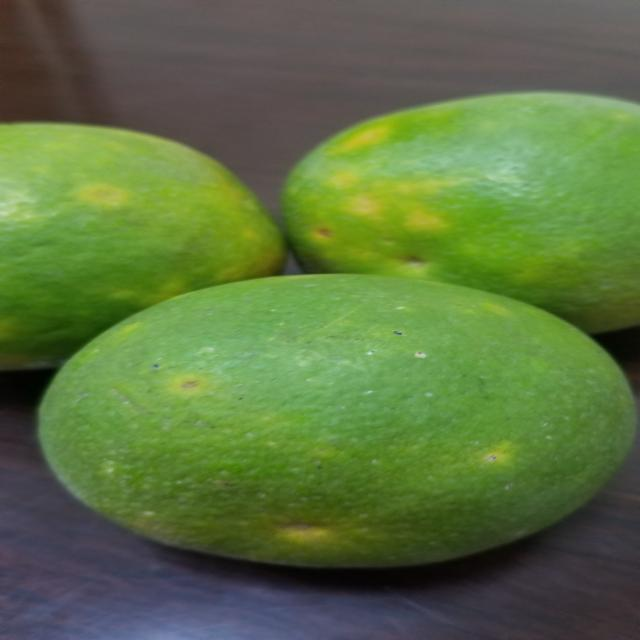Ripe orange: (36, 260, 640, 572), (274, 78, 640, 336), (3, 114, 291, 376)
